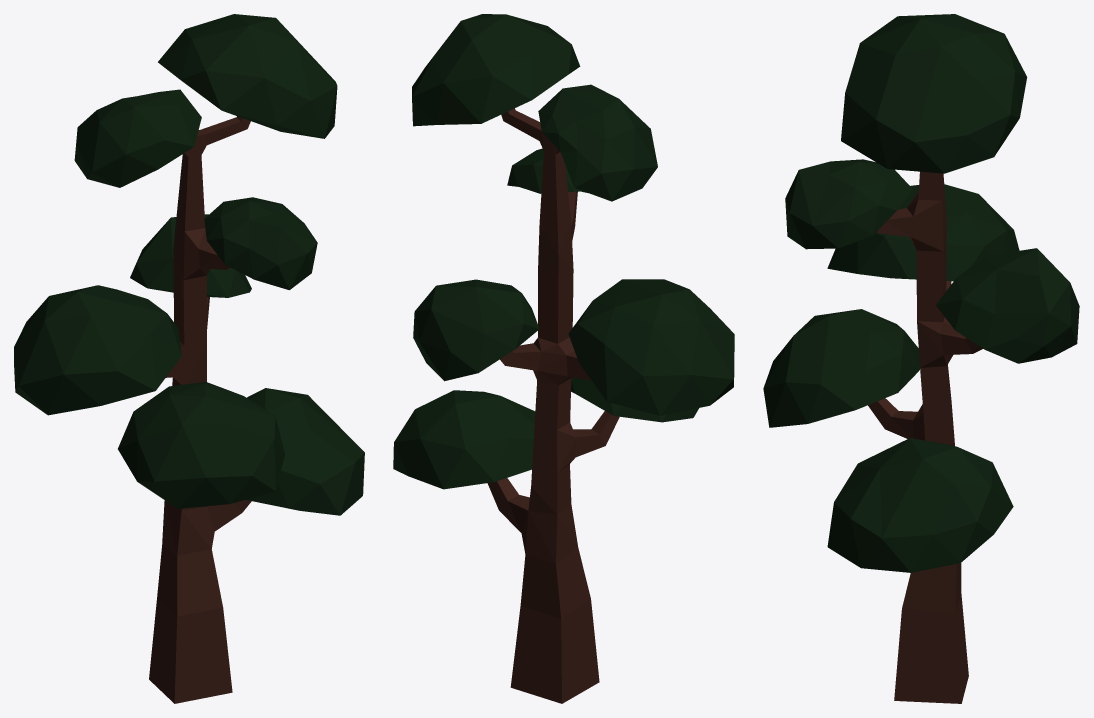
Rendered from cap_tree2.obj.
3 renders of one model, left to right at view 1: azimuth 30°, elevation 25°; view 2: azimuth 150°, elevation 25°; view 3: azimuth 270°, elevation 25°, orthographic. The views are drawn at different scales.
Parts seen in each view (by area): view 1: Tree6_2_Cube.040; view 2: Tree6_2_Cube.040; view 3: Tree6_2_Cube.040.
Boxes of the visible parts, left/top/right/bottom form: Tree6_2_Cube.040: left=14, top=14, right=364, bottom=703; Tree6_2_Cube.040: left=393, top=14, right=734, bottom=703; Tree6_2_Cube.040: left=763, top=14, right=1079, bottom=703.
Bounding box in the file's own units: 5.5 × 10.35 × 4.25.
